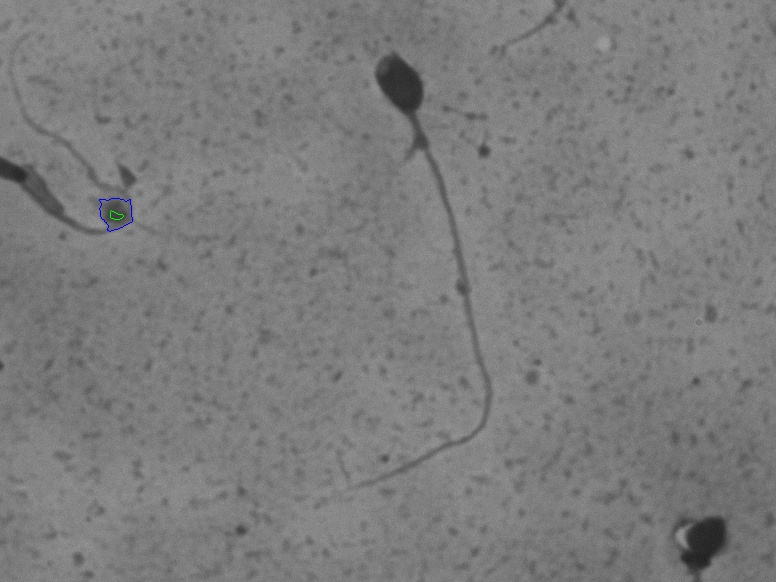Abnormal: (324, 32, 512, 520)
